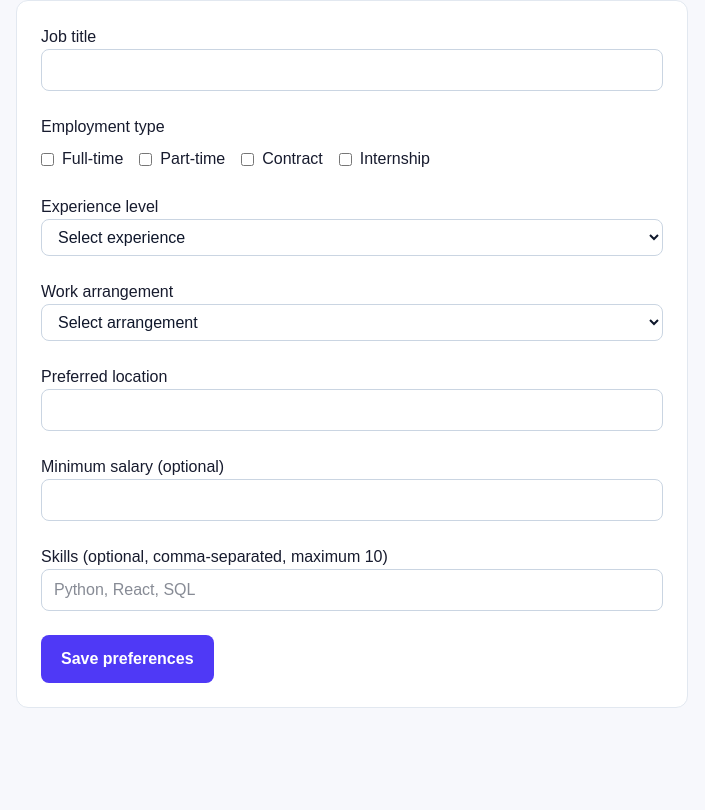
Test: JobPreferencesForm › shows validation errors for required fields
Click the button "Save preferences". click: coordinates (127, 659)
box: 41,635 -> 214,683
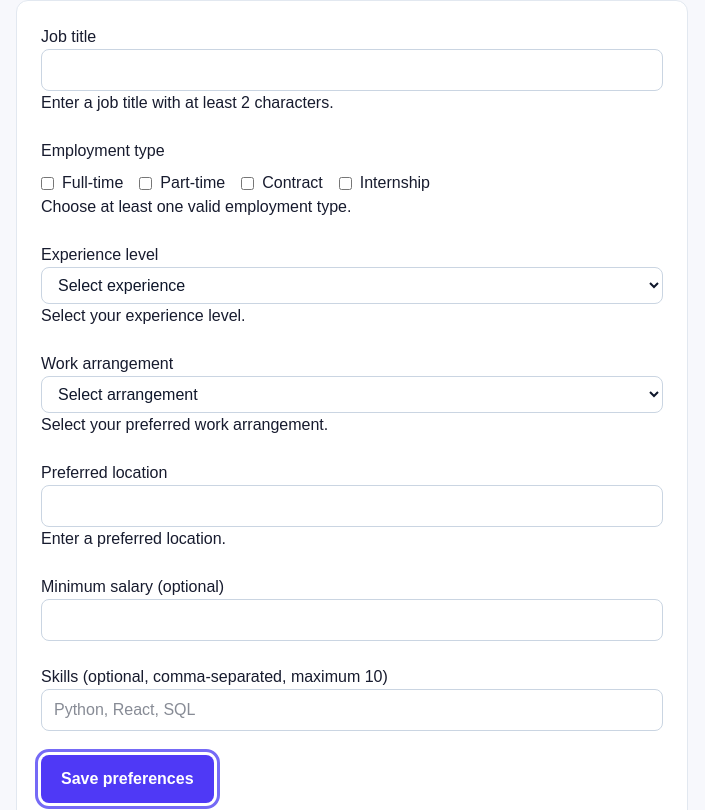
Now the text "Enter a job title with at least 2 characters." is shown, box 41,94 -> 334,111
Now the text "Enter a preferred location." is shown, box 41,530 -> 226,547
Now the text "Choose at least one valid employment type." is shown, box 41,198 -> 351,215
